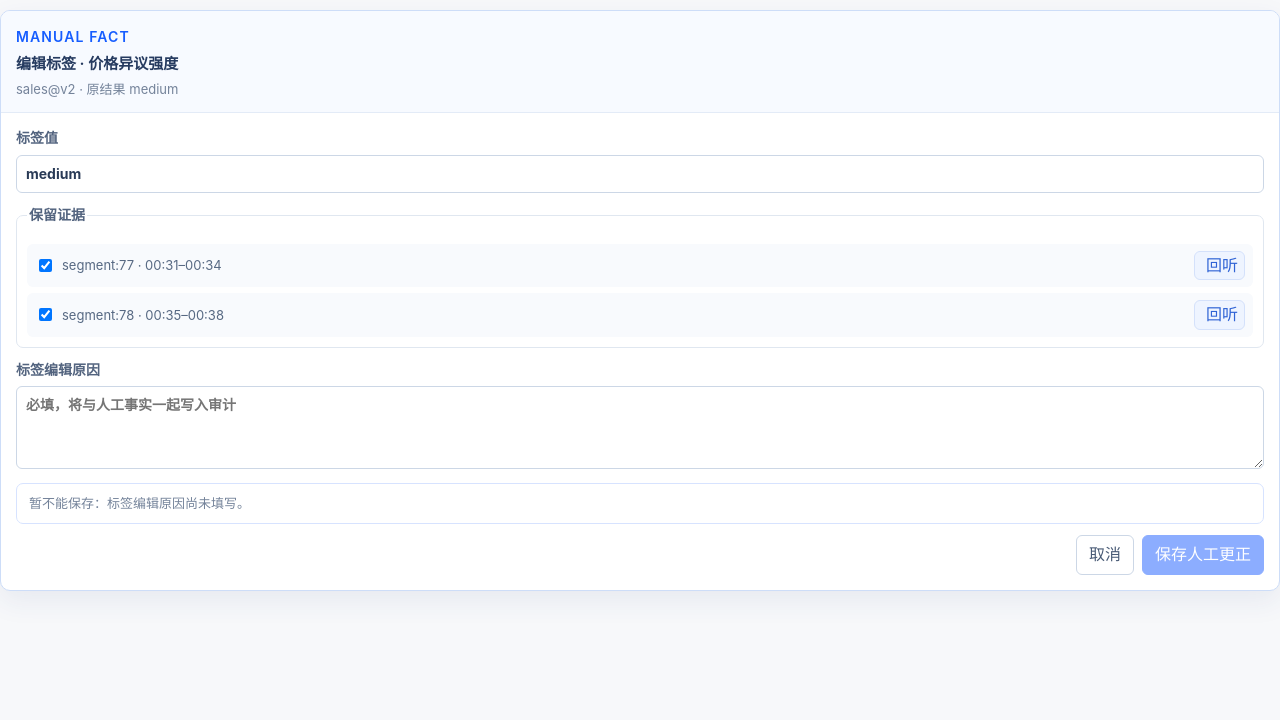
Test: TagAssignmentEditor › names every condition that still blocks the save
This screenshot has width=1280, height=720.
Expected: the button "保存人工更正" is disabled, [1142,535,1264,575]
Expected: the message reads "暂不能保存：标签编辑原因尚未填写。", [16,483,1264,524]
Step 1. Click the checkbox named "证据 segment:77" → (46, 265), box [39,259,52,272]
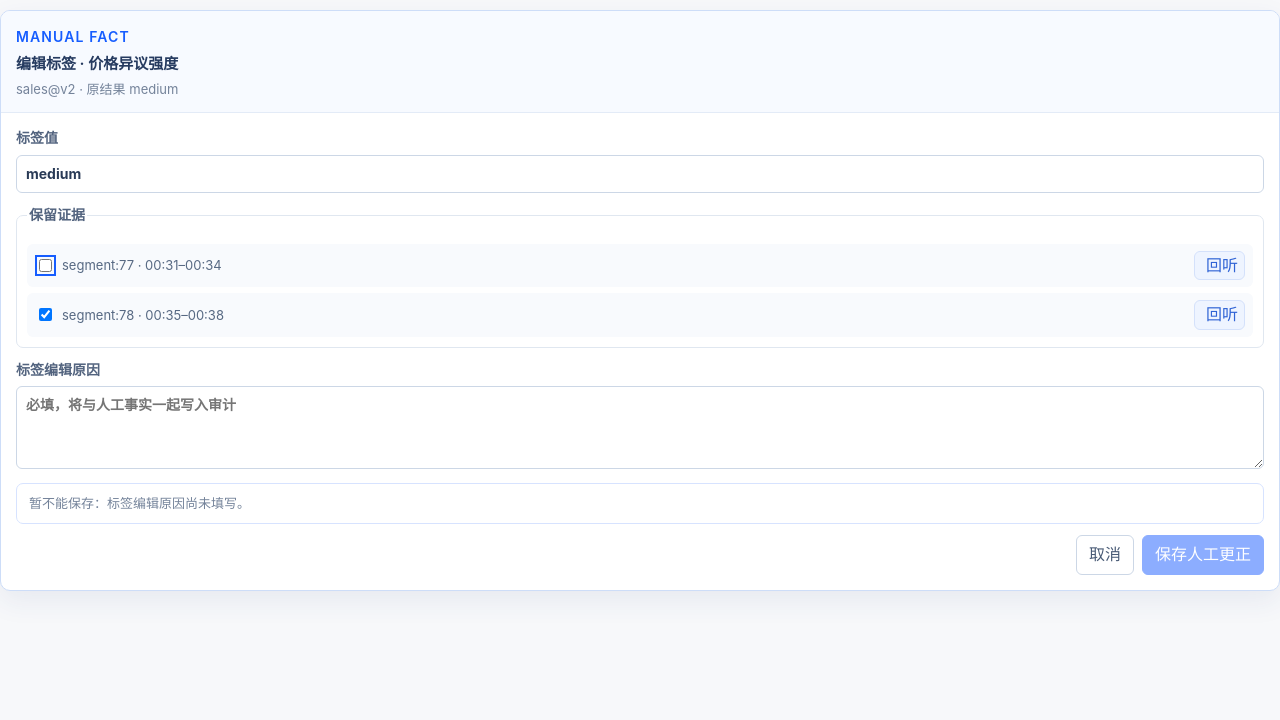
Step 2. Click the checkbox named "证据 segment:78" → (46, 315), box [39,308,52,321]
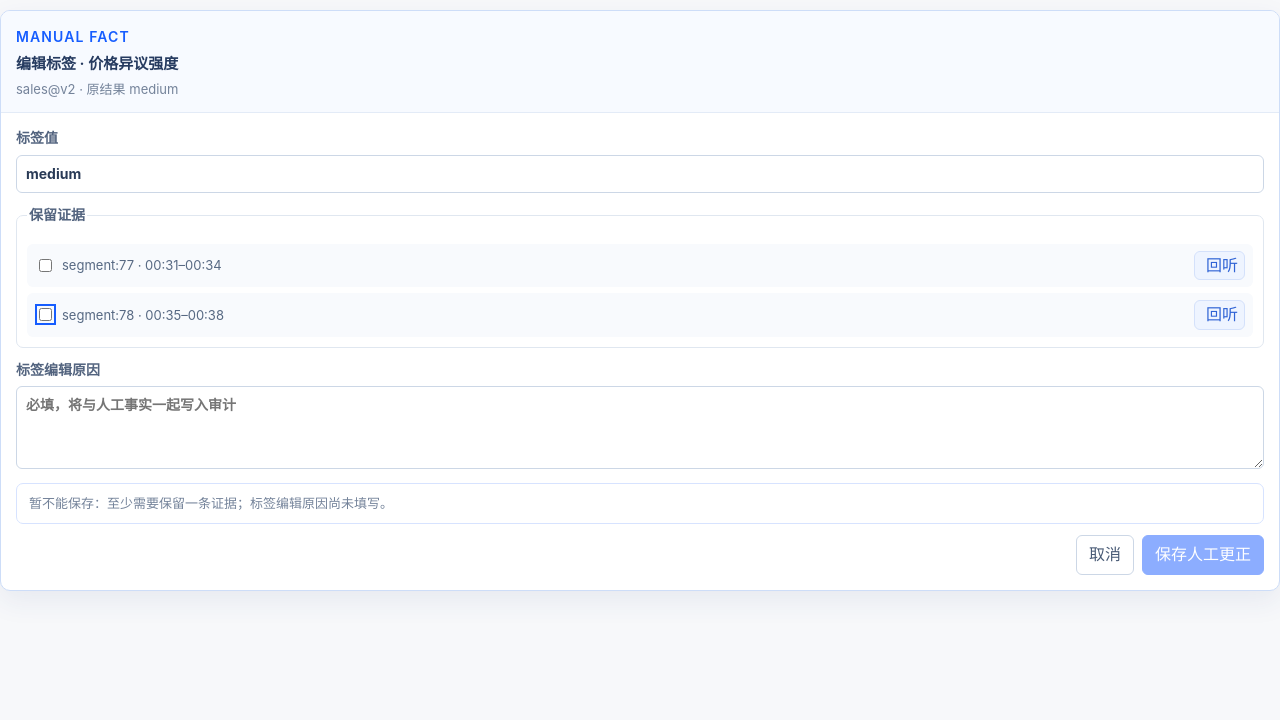
Now the message reads "暂不能保存：至少需要保留一条证据；标签编辑原因尚未填写。", box [16,483,1264,524]
Step 3. Type "复核录音后确认异议强烈" into the text box labelled "标签编辑原因" → (640, 428), box [16,386,1264,469]
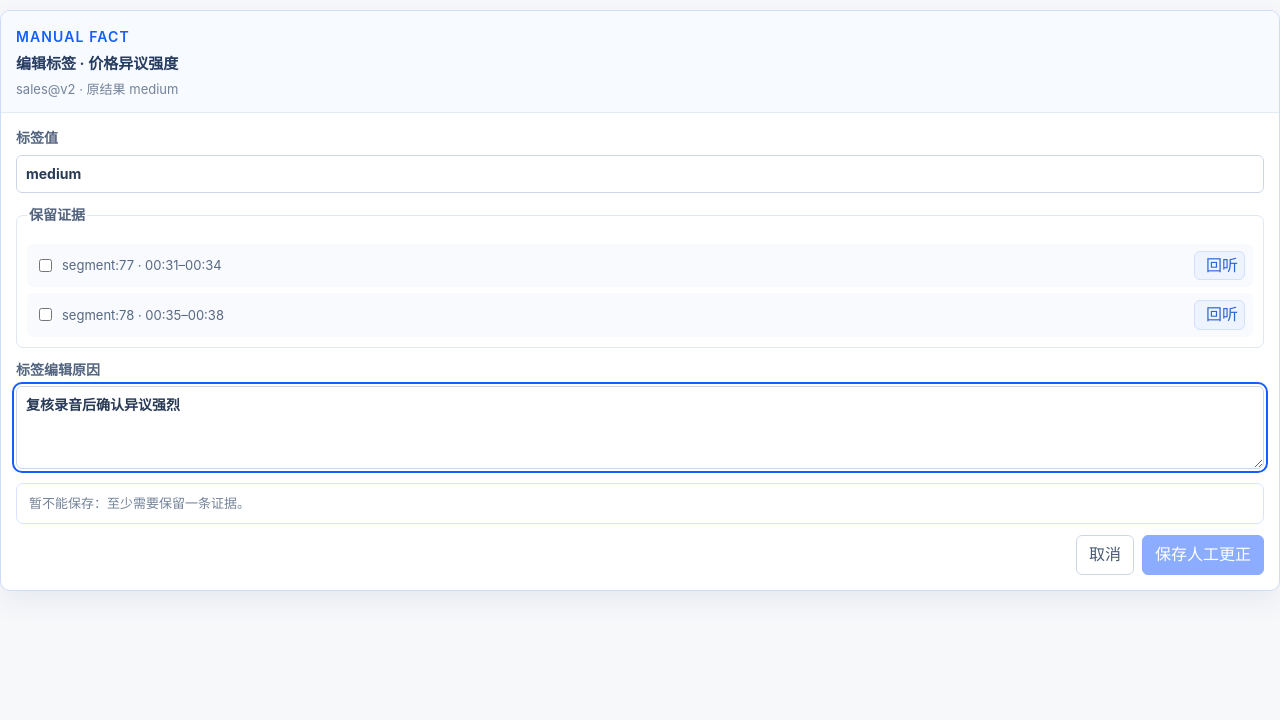
Now the message reads "暂不能保存：至少需要保留一条证据。", box [16,483,1264,524]
Step 4. Click the checkbox named "证据 segment:77" → (46, 265), box [39,259,52,272]
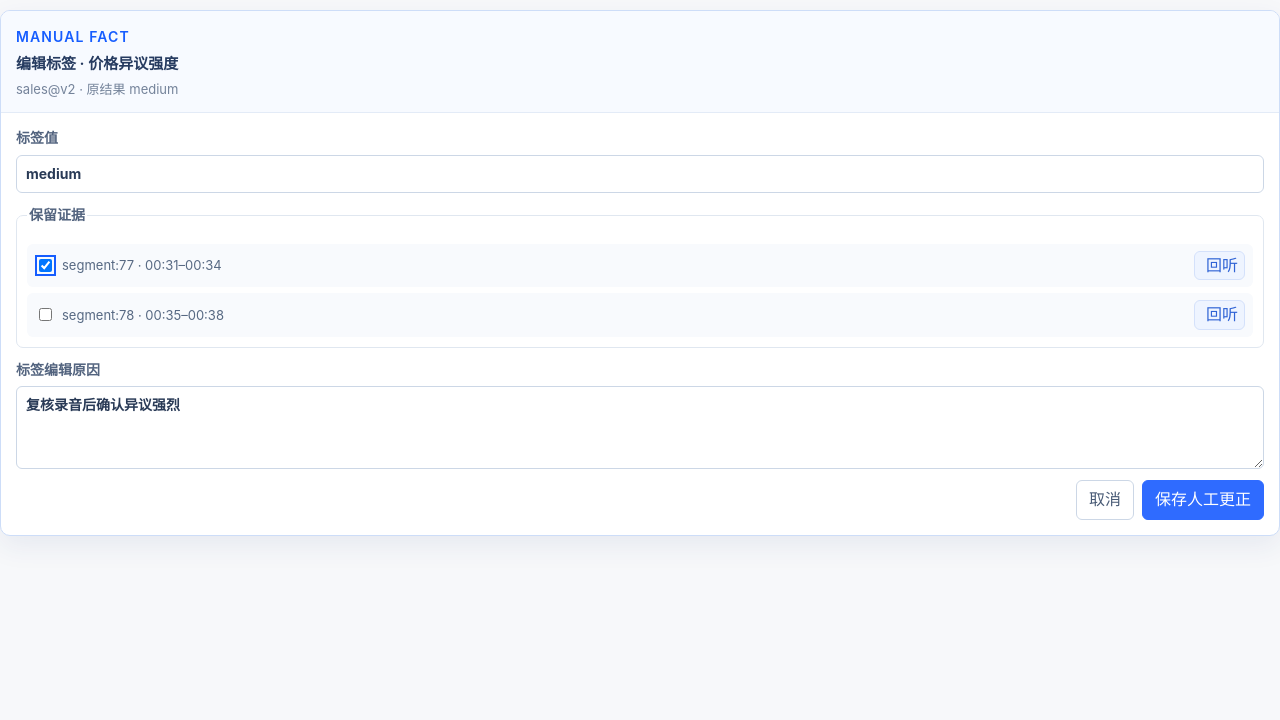
Now the message "暂不能保存：至少需要保留一条证据。" is gone
Now the button "保存人工更正" is enabled, box [1142,480,1264,520]
